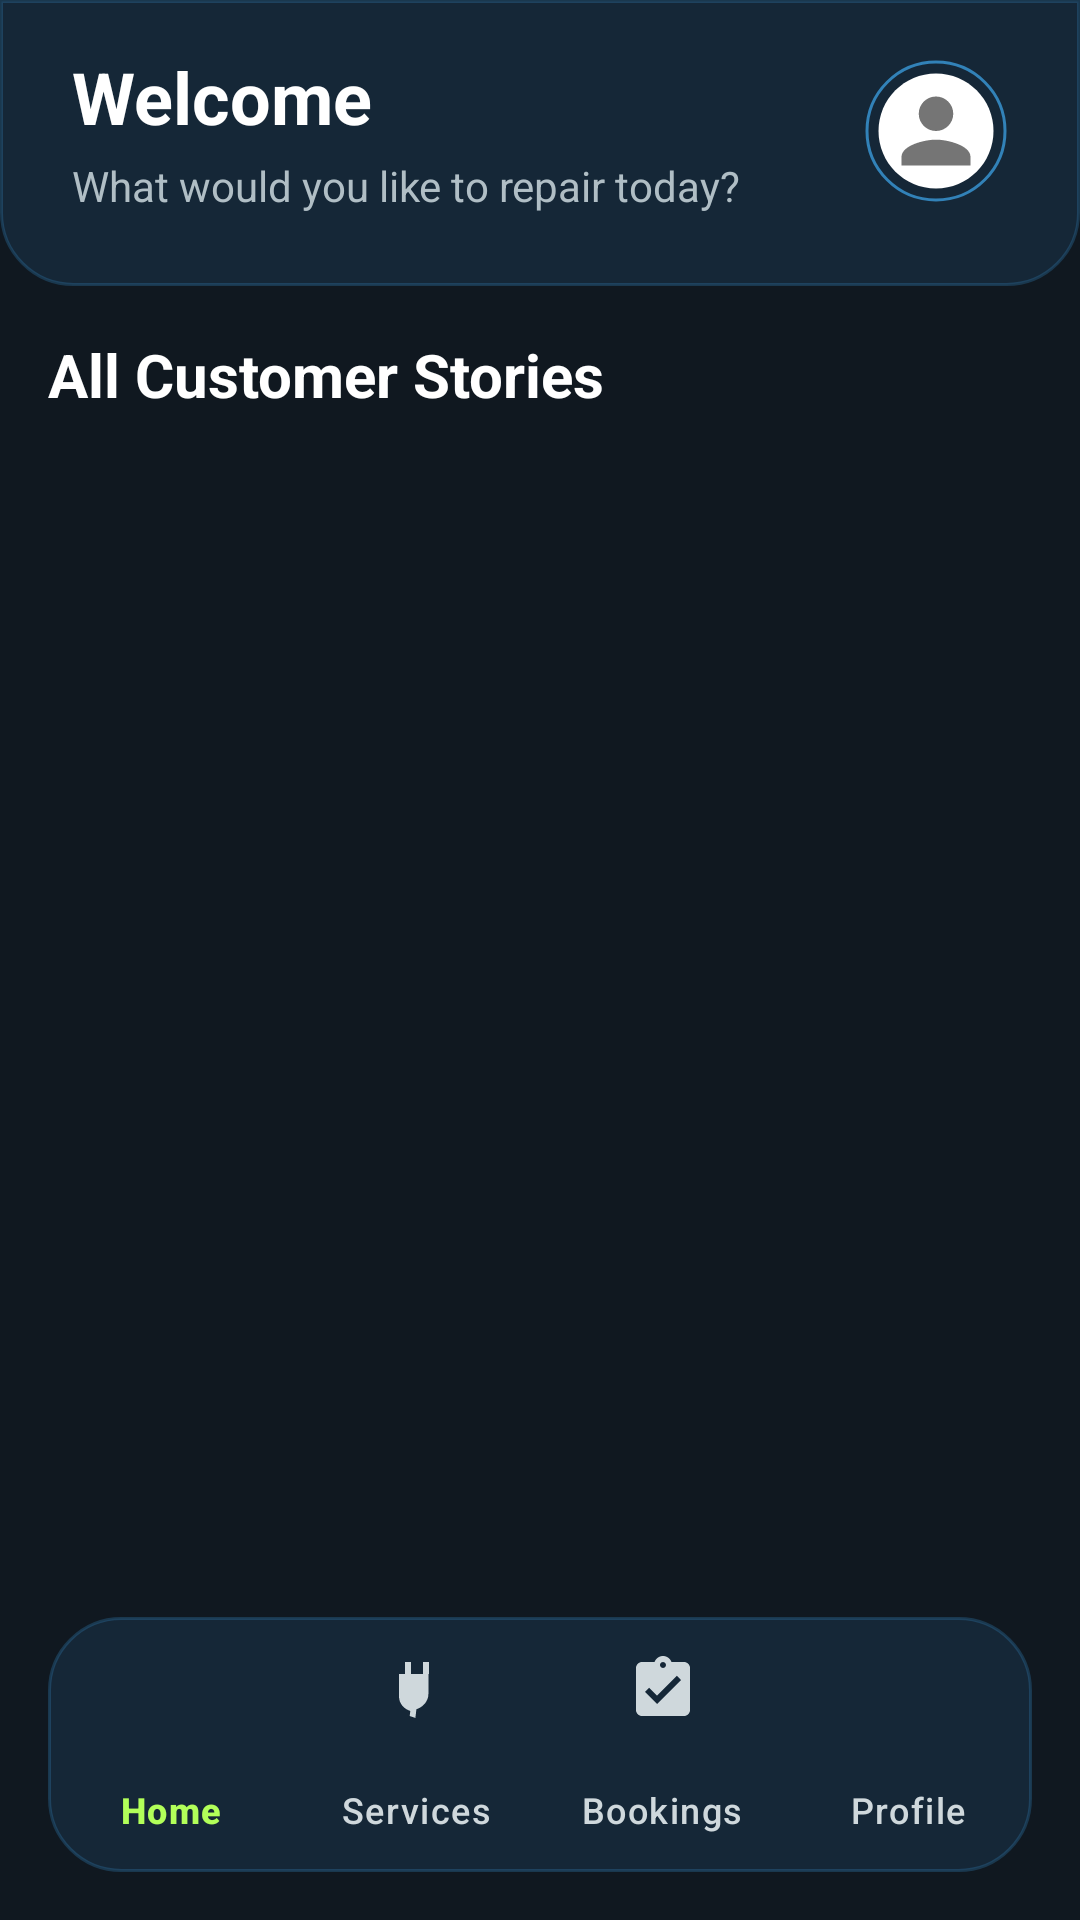

Icon bounding boxes for this 1080*1920 phone screenshot, format (x1, y1, x2, y2):
user: (865, 60, 1007, 202)
